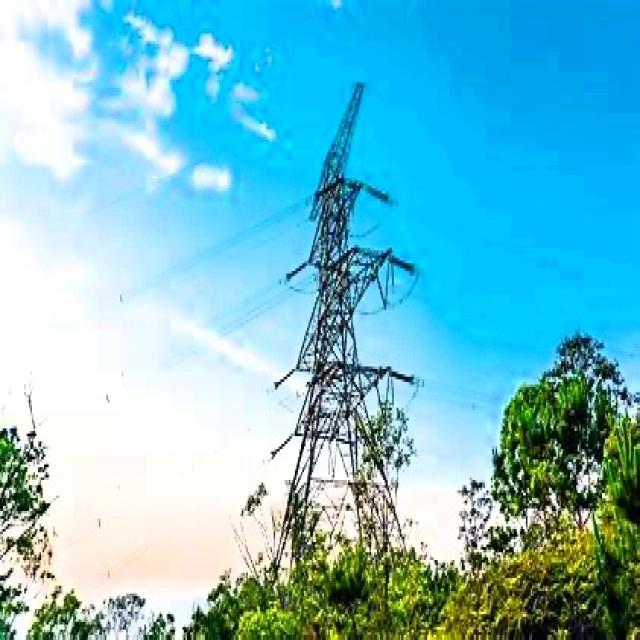utility poles: (464, 280, 624, 544), (292, 342, 426, 604)
